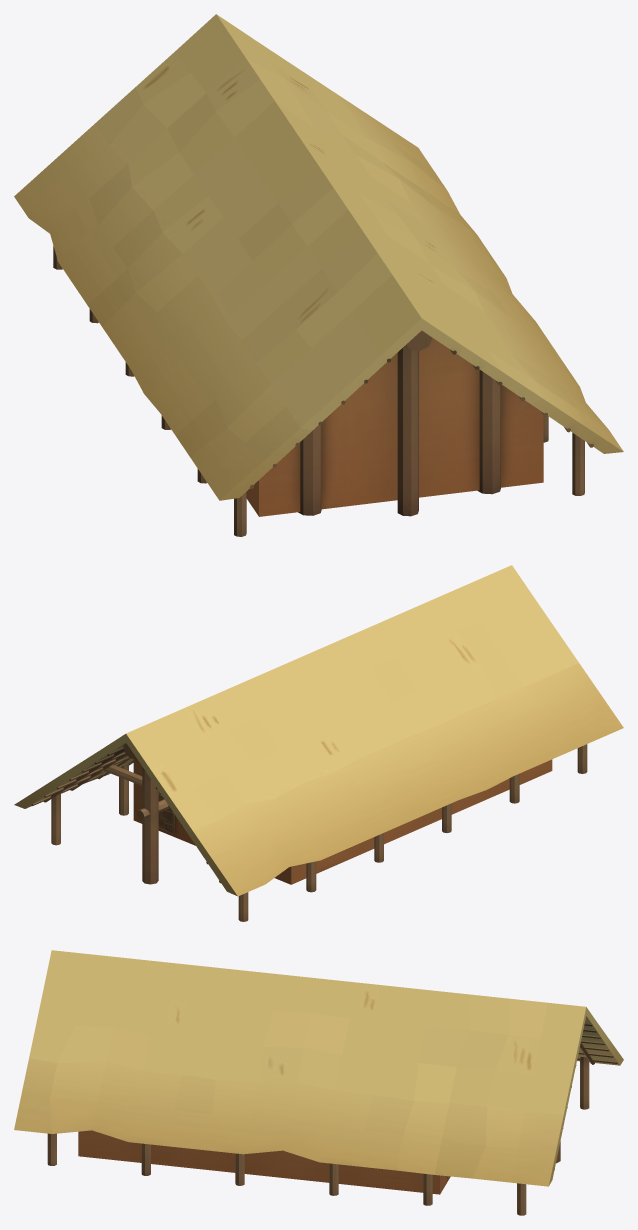
The picture shows the model from 3 angles, top to bottom: view 1: azimuth 30°, elevation 25°; view 2: azimuth 150°, elevation 25°; view 3: azimuth 270°, elevation 25°; orthographic projection. The views are drawn at different scales.
Visible parts, largest first — view 1: House.002; view 2: House.002; view 3: House.002.
Part boxes in pixels (x1,y1,x2,y2): House.002: (14,14,623,536); House.002: (14,565,623,921); House.002: (14,950,623,1215).
Bounding box in the file's own units: 13.98 × 5.59 × 19.63.
Materials: 1 (1 with a texture image).
